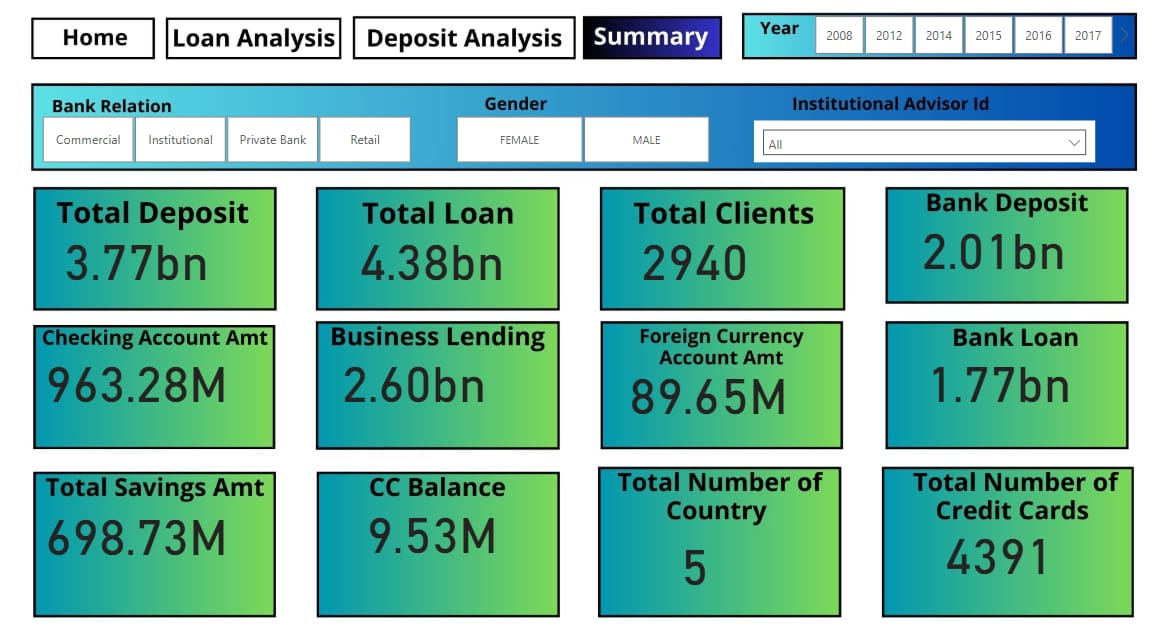

What the dashboard file says about the page in this screenshot:
{"tool":"powerbi","page":{"name":"Summary","canvas":[1280,720],"ordinal":3},"visuals":[{"type":"actionButton","box":[56.7,28.3,118.3,40],"z":0},{"type":"actionButton","box":[201.7,28.3,178.3,40],"z":1000},{"type":"actionButton","box":[405,28.3,235,40],"z":2000},{"type":"actionButton","box":[651.7,28.3,143.3,40],"z":3000},{"type":"slicer","fields":{"Values":["Banking.Joined Bank.Variation.Date Hierarchy.Year"]},"box":[873.3,18.3,371.7,55],"z":4000},{"type":"slicer","fields":{"Values":["Banking.BRId"]},"box":[35,126.7,448.3,63.3],"z":5000},{"type":"slicer","fields":{"Values":["Banking.GenderId"]},"box":[485,126.7,323.3,63.3],"z":6000},{"type":"slicer","fields":{"Values":["Banking.IAId"]},"box":[833.3,138.3,370,45],"z":7000},{"type":"card","fields":{"Values":["Sum(Banking.Deposits)"]},"box":[56.7,228.3,211.7,115],"z":8000},{"type":"card","fields":{"Values":["Sum(Banking.Loan)"]},"box":[376.7,228.3,211.7,115],"z":9000},{"type":"card","fields":{"Values":["Count(Banking.Client ID)"]},"box":[661.7,228.3,211.7,115],"z":10000},{"type":"card","fields":{"Values":["Sum(Banking.Bank Deposits)"]},"box":[991.7,215,200,116.7],"z":11000},{"type":"card","fields":{"Values":["Sum(Banking.Credit Card Balance)"]},"box":[376.7,523.3,211.7,115],"z":12000},{"type":"card","fields":{"Values":["Sum(Banking.Bank Loans)"]},"box":[991.7,360,211.7,115],"z":13000},{"type":"card","fields":{"Values":["Sum(Banking.Checking Accounts)"]},"box":[56.7,360,211.7,115],"z":14000},{"type":"card","fields":{"Values":["Sum(Banking.Business Lending)"]},"box":[358.3,360,211.7,115],"z":15000},{"type":"card","fields":{"Values":["Sum(Banking.Saving Accounts)"]},"box":[56.7,525,211.7,115],"z":16000},{"type":"card","fields":{"Values":["Sum(Banking.Foreign Currency Account)"]},"box":[646.7,371.7,271.7,115],"z":17000},{"type":"card","fields":{"Values":["Count(Banking.Nationality)"]},"box":[661.7,558.3,211.7,115],"z":18000},{"type":"card","fields":{"Values":["Sum(Banking.Amount of Credit Cards)"]},"box":[991.7,546.7,211.7,115],"z":19000}]}

Visuals, with their boxes in screenshot pixels (x1, y1, x2, y2), scaled from the page's 1280x720 canvas onto the 1153x641 screenshot:
actionButton: 51 25 158 61
actionButton: 182 25 342 61
actionButton: 365 25 576 61
actionButton: 587 25 716 61
slicer - Banking.Joined Bank.Variation.Date Hierarchy.Year: 787 16 1121 65
slicer - Banking.BRId: 32 113 435 169
slicer - Banking.GenderId: 437 113 728 169
slicer - Banking.IAId: 751 123 1084 163
card - Sum(Banking.Deposits): 51 203 242 306
card - Sum(Banking.Loan): 339 203 530 306
card - Count(Banking.Client ID): 596 203 787 306
card - Sum(Banking.Bank Deposits): 893 191 1073 295
card - Sum(Banking.Credit Card Balance): 339 466 530 568
card - Sum(Banking.Bank Loans): 893 320 1084 423
card - Sum(Banking.Checking Accounts): 51 320 242 423
card - Sum(Banking.Business Lending): 323 320 513 423
card - Sum(Banking.Saving Accounts): 51 467 242 570
card - Sum(Banking.Foreign Currency Account): 583 331 827 433
card - Count(Banking.Nationality): 596 497 787 599
card - Sum(Banking.Amount of Credit Cards): 893 487 1084 589
